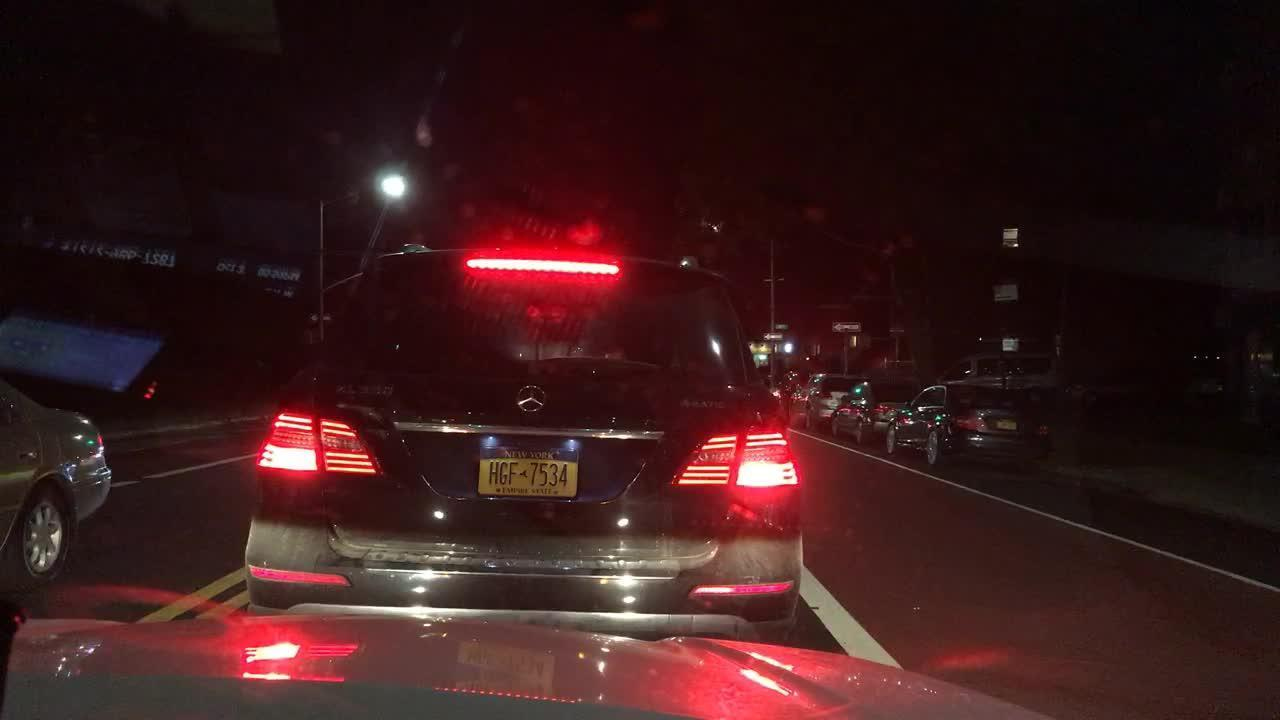Mercedes: (500, 373, 566, 426)
